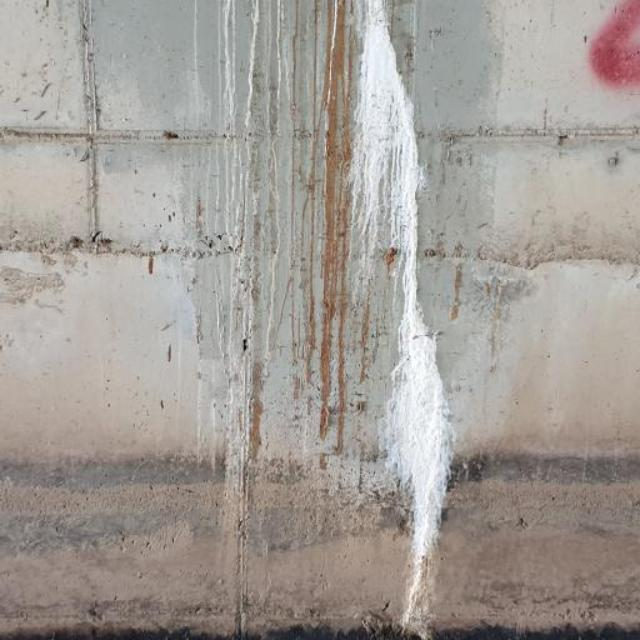D01: (350, 2, 451, 639)
